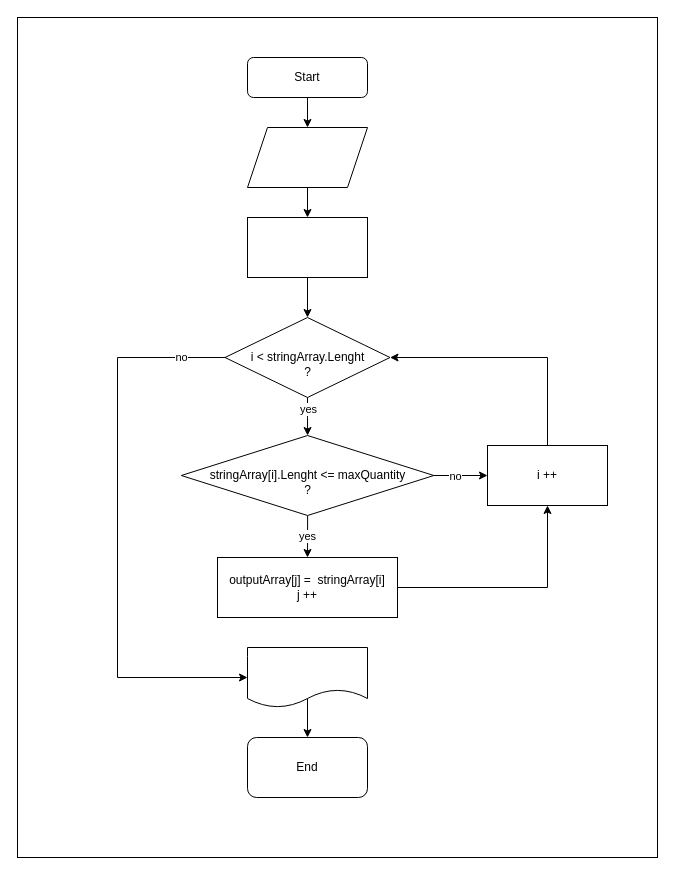
Image size: 675x875. Some labels were removed from this diagram. Each missing label, with the centre of its shape:
"maxQuantity = 3 i = 0 outputArray = [] j = 0" belongs at (x=307, y=247).
"outputArray" belongs at (x=307, y=677).
"stringArray" belongs at (x=307, y=157).
